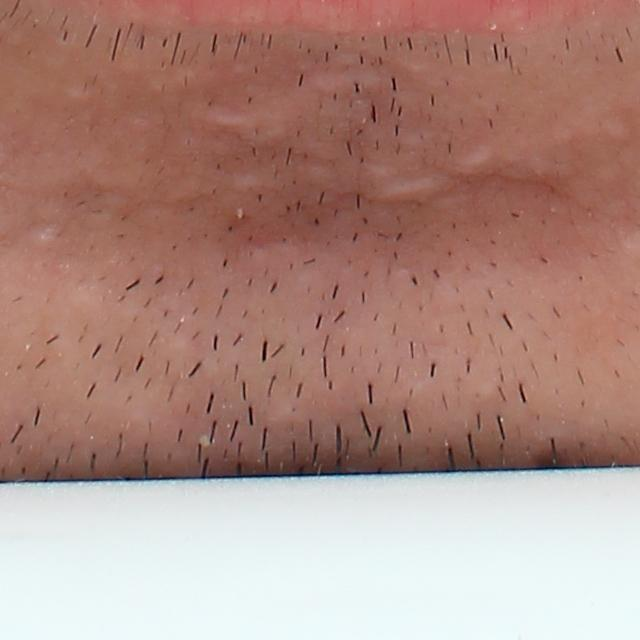hypertrophic_scar: (190, 103, 300, 150), (369, 174, 458, 206), (314, 69, 387, 103), (443, 144, 500, 182), (227, 171, 276, 196), (600, 114, 636, 142), (300, 161, 339, 185)
